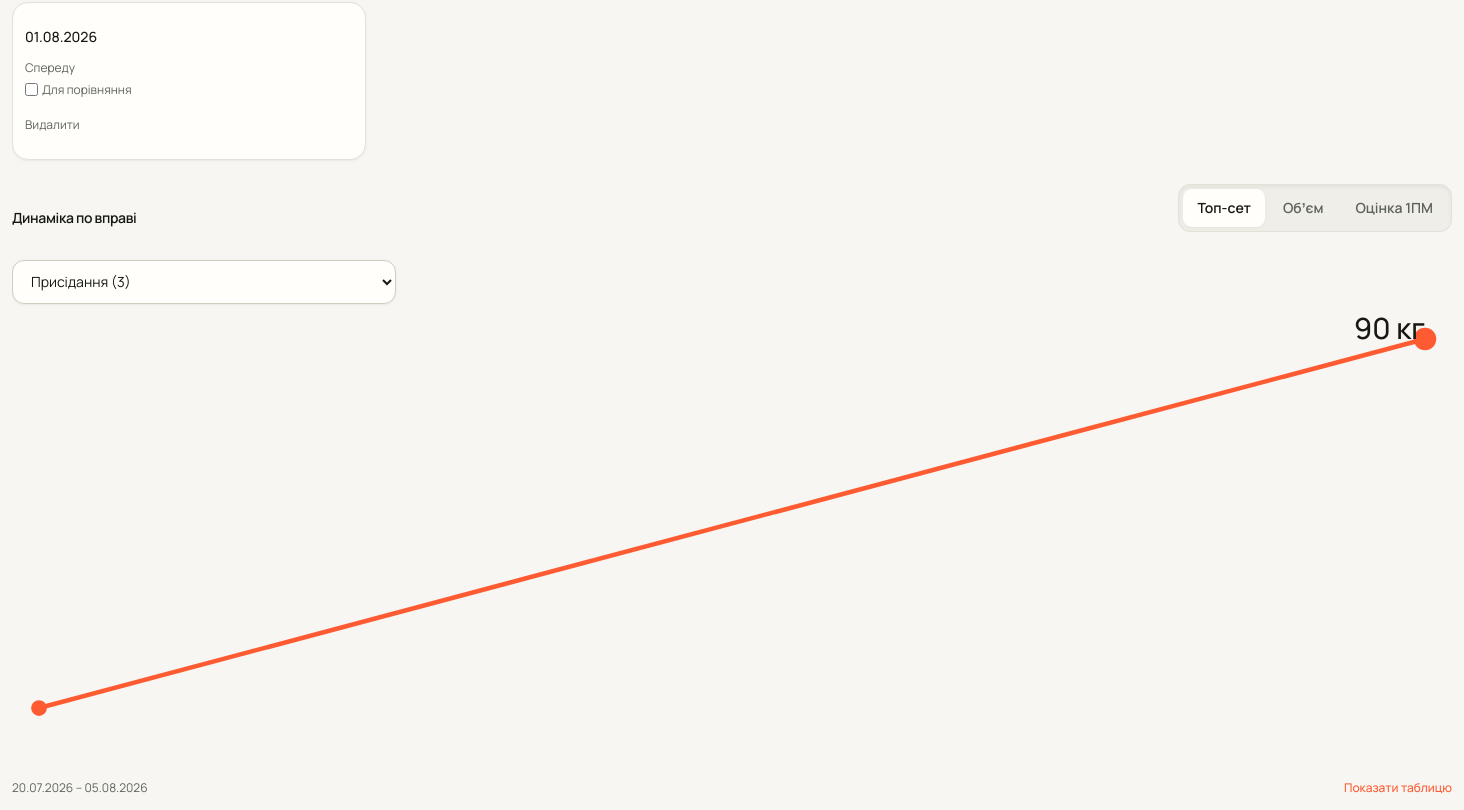
Test: ClientProgressPanel › shows the exercise load trend and switches metric
(page scrolled)
Check: the heading "Динаміка по вправі" is shown, box x1=12 y1=207 x2=136 y2=229
Check: the picture named "Присідання" is shown, box x1=12 y1=312 x2=1452 y2=762
# Top set by default: the last point is 90 kg.
Click the button "Показати таблицю": (1398, 788) x1=1344 y1=766 x2=1452 y2=809
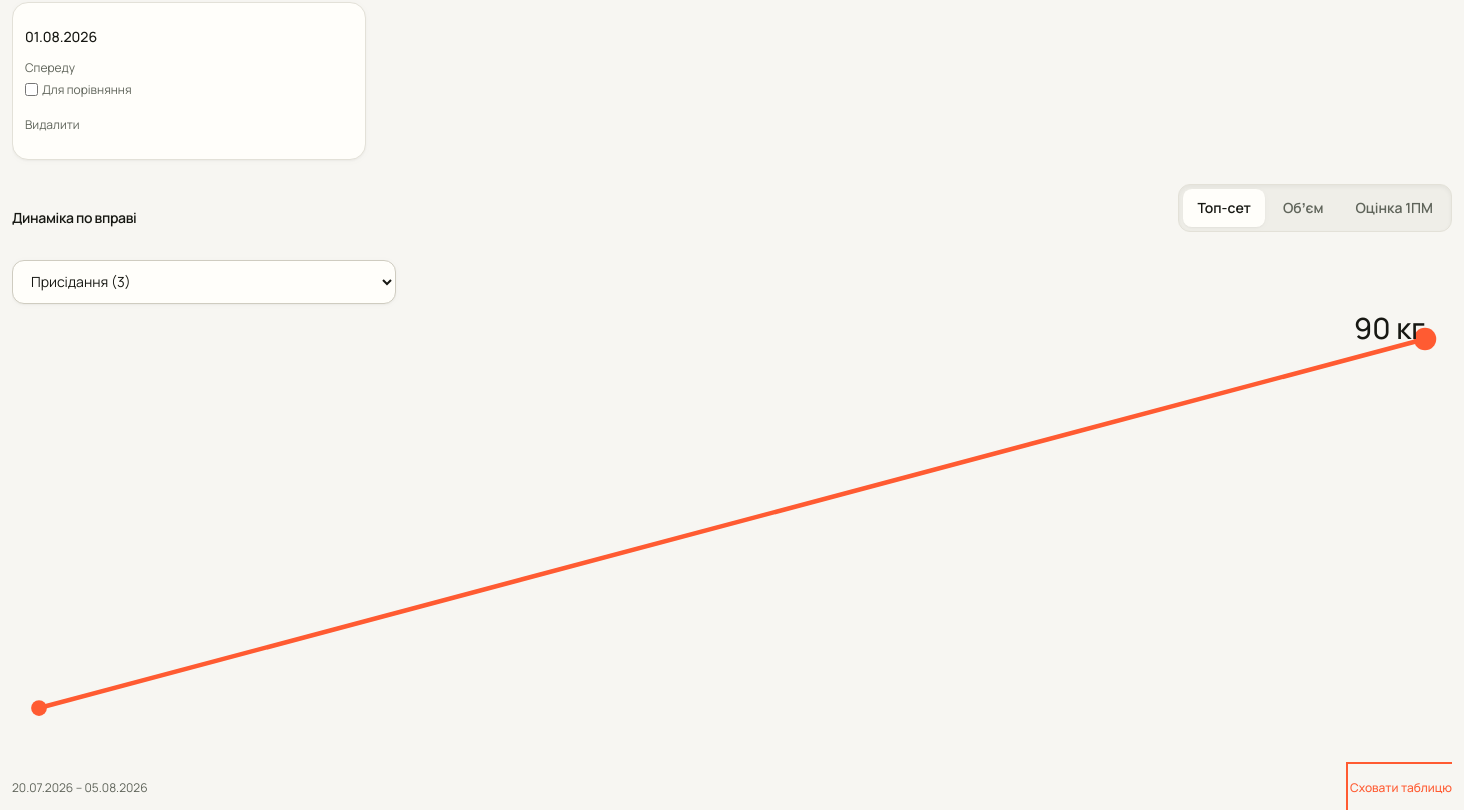
Click the tab "Обʼєм": (1303, 208) x1=1269 y1=189 x2=1338 y2=227
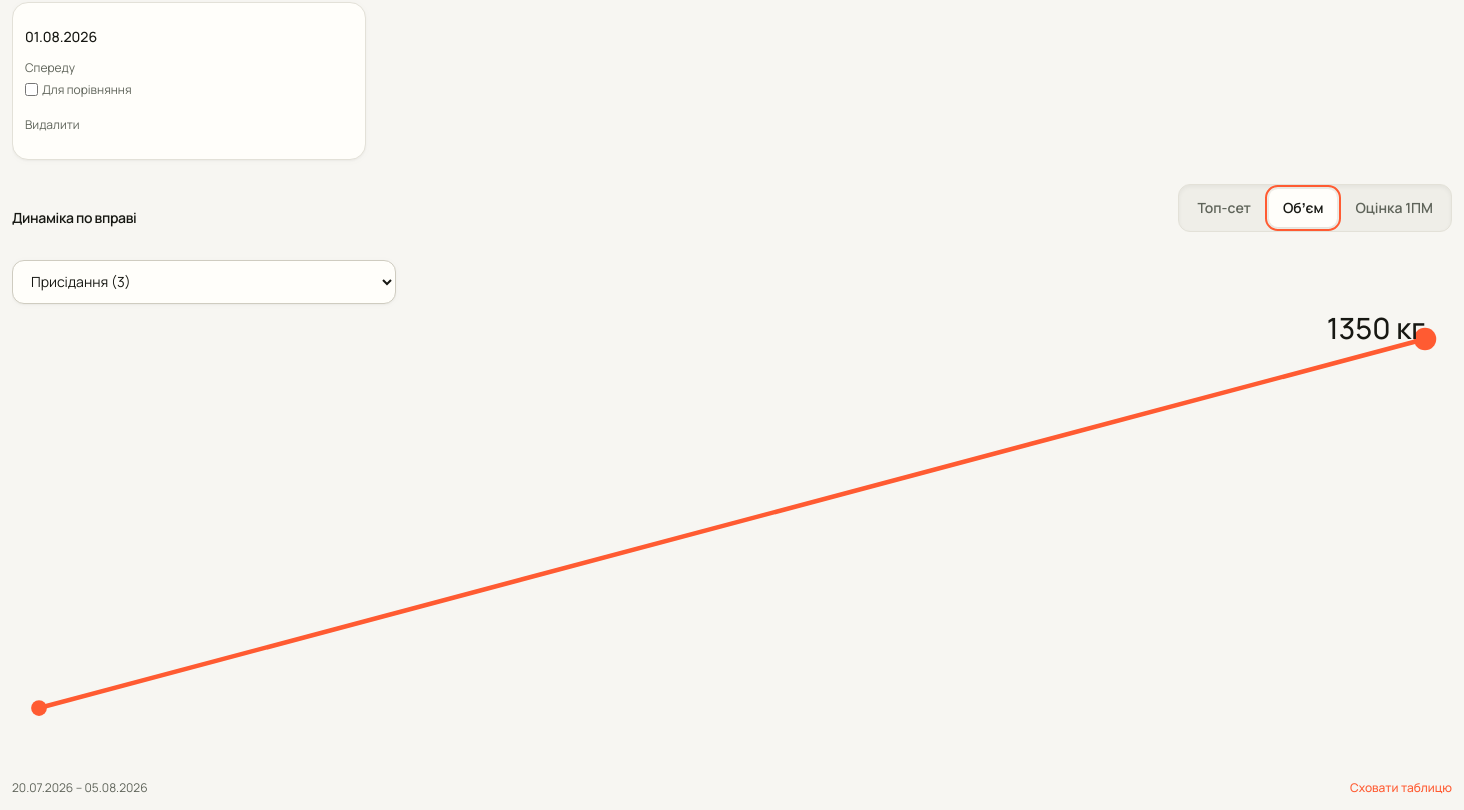
Check: the picture named "від 1200 до 1350 кг" is shown, box x1=12 y1=312 x2=1452 y2=762
